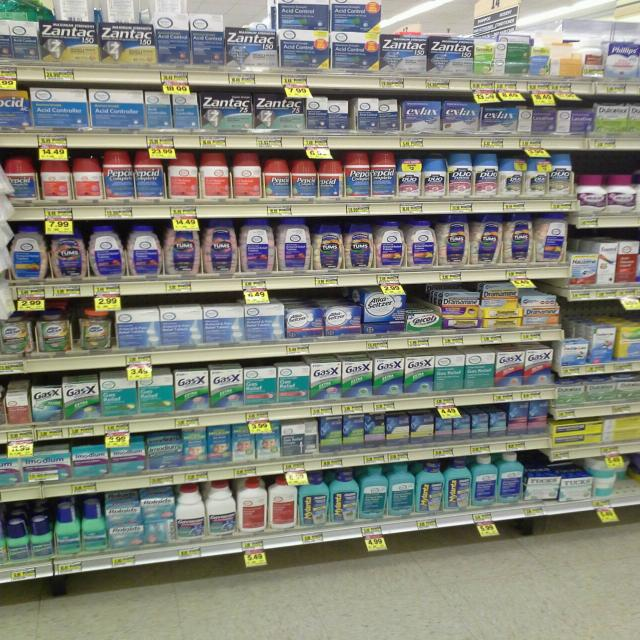unorganised: (73, 302, 114, 354), (253, 92, 306, 132), (524, 473, 564, 506), (327, 97, 351, 131)
